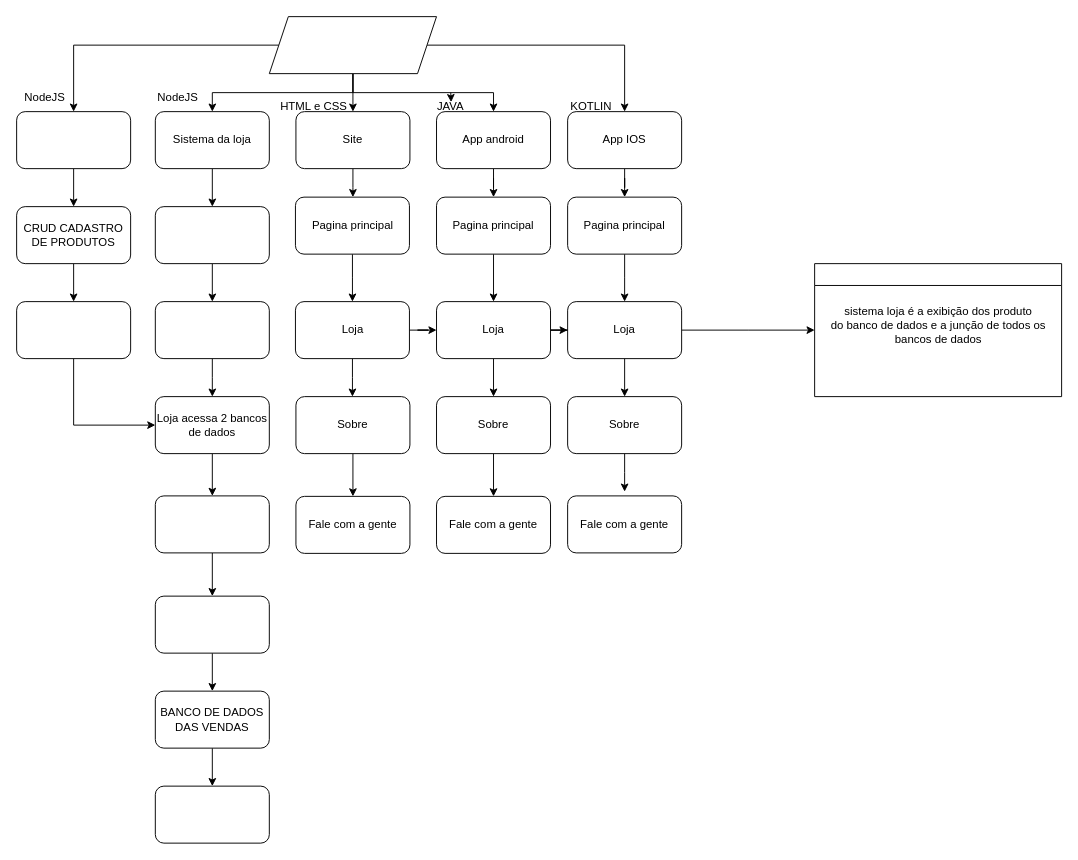
The diagram is 1078 pixels wide and 860 high, and some of its shapes have lost their labels. The shapes that lost their labels are listed below. From the top down, each one's box as (x1, y1, x2, y2) in pixels, then its label:
(268, 16, 437, 74): Ecommerce
(16, 111, 131, 169): Sistema de cadastro de produtos
(154, 206, 269, 264): Sistema de criação de usuários
(16, 301, 131, 359): CRUD SALVA AS INFORMAÇÕES NO BANCO DE DADOS AWS
(154, 301, 269, 359): Dados do usuário salvos no banco de dados usuários
(814, 263, 1062, 397): Vertical Container
(154, 495, 269, 553): Loja Exibe produtos na tela
(154, 595, 269, 653): CRUD COMPRA
(154, 785, 269, 843): INTEGRAÇÃO COM API DE ENVIO E FRETE
